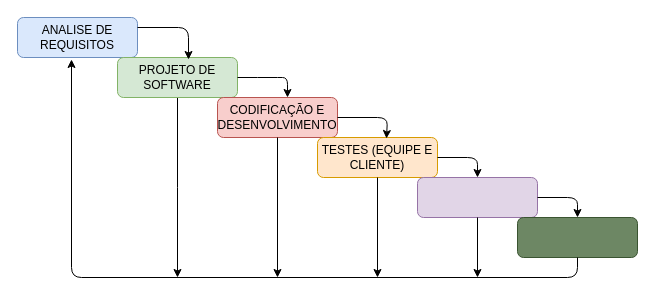
Some shapes in this 655 by 303 pixel diagram are drawn without their labels. The shapes that lost their labels are listed below. From the top down, each one's centre as x and y in pixels, then its label:
the point at 477,197: ENTREGA
the point at 577,237: MANUTENÇÃO
